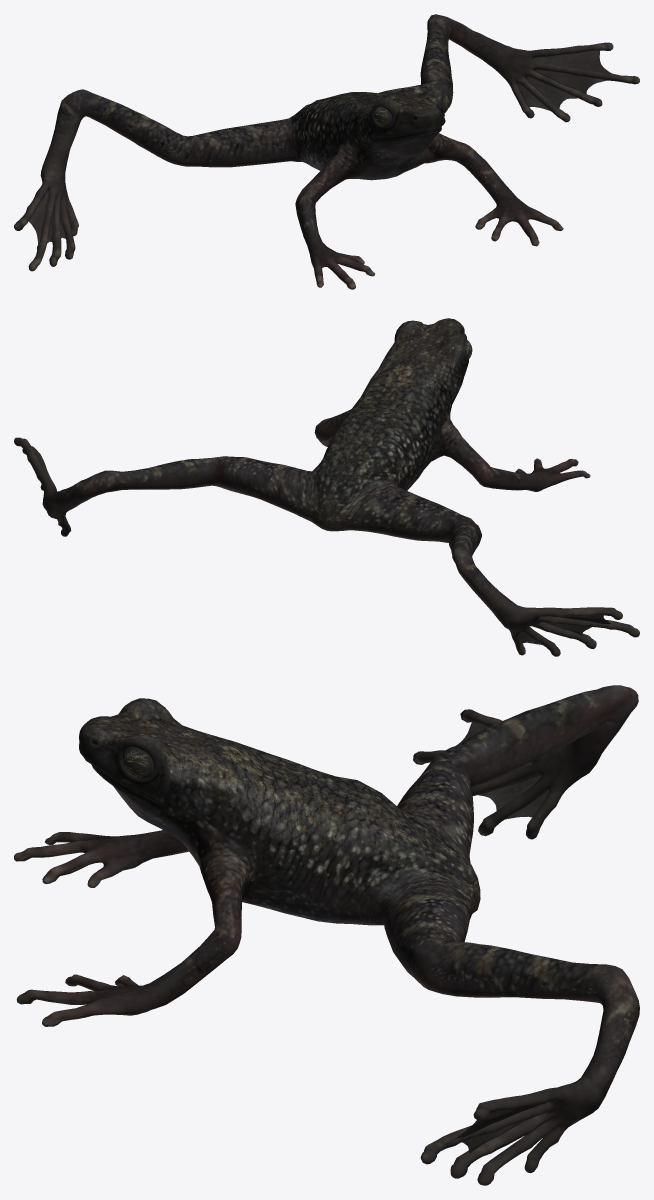
Rendered from MBS-2351 Ansonia muelleri_dorsal.glb.
The picture shows the model from 3 angles, top to bottom: view 1: azimuth 30°, elevation 25°; view 2: azimuth 150°, elevation 25°; view 3: azimuth 270°, elevation 25°; orthographic projection. The views are drawn at different scales.
Visible parts, largest first — view 1: Sphere.010; view 2: Sphere.010; view 3: Sphere.010.
Part boxes in pixels (box(x1,y1,x2,y2)): Sphere.010: box(14, 14, 639, 289); Sphere.010: box(14, 318, 639, 656); Sphere.010: box(14, 685, 639, 1185).
Size of the model in its own units: 0.782 by 0.2306 by 0.448.
2 materials, 2 textured.
